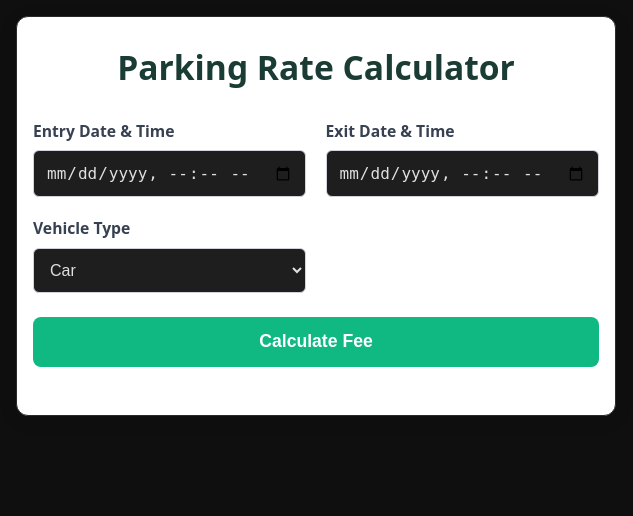
Test case: Parking Rate Calculator › shows error when exit is before entry
Type "2025-03-25T10:00" into the field labelled "Entry Date & Time" at (170, 174), box left=33, top=150, right=306, bottom=197
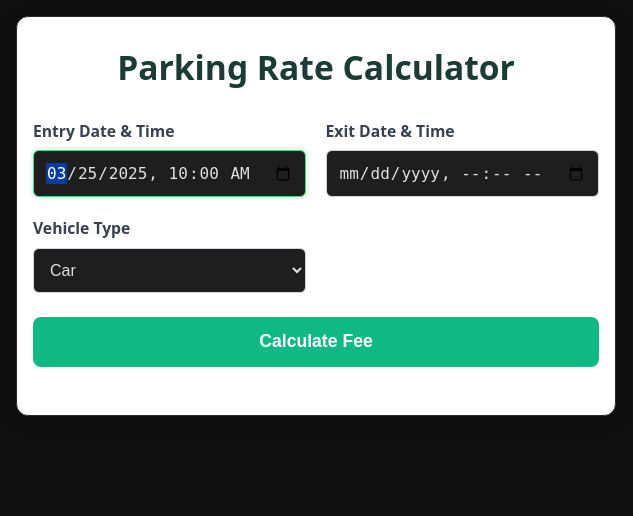
Type "2025-03-25T09:00" into the field labelled "Exit Date & Time" at (462, 174), box left=326, top=150, right=599, bottom=197
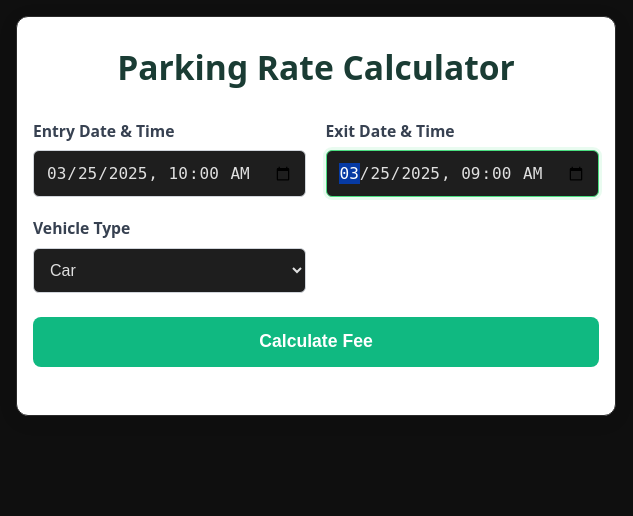
Click the button "Calculate Fee" at (316, 342), box left=33, top=317, right=599, bottom=367
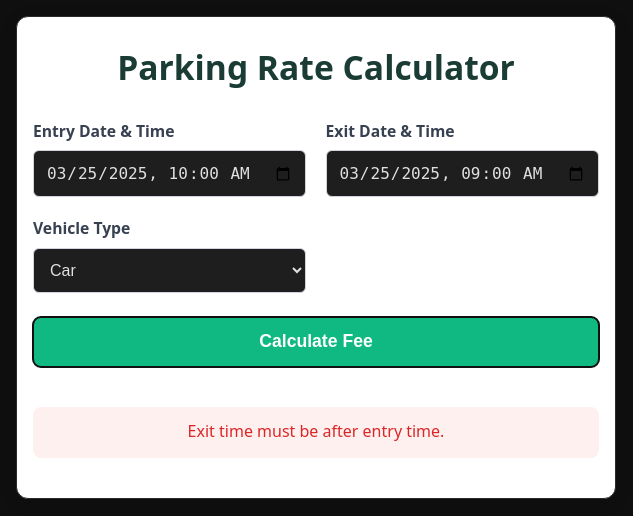
Expected: the text "Exit time must be after entry time." is shown, left=33, top=407, right=599, bottom=458
